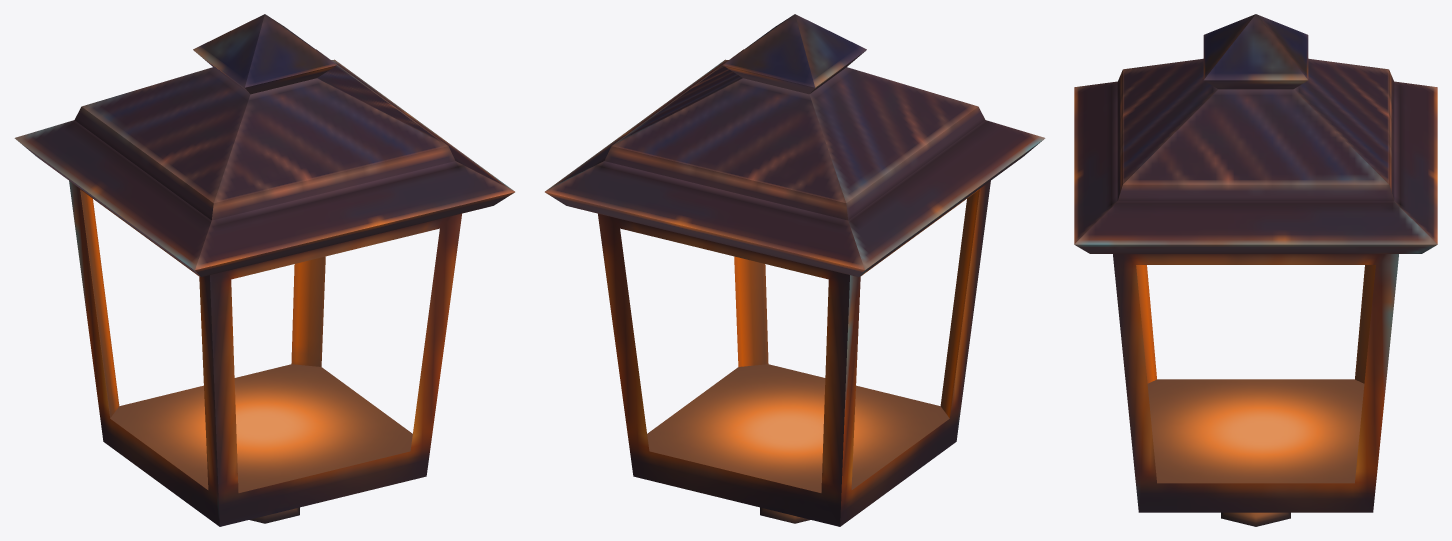
File: HuBian_NightLD_fbx.FBX
The picture shows the model from 3 angles, left to right: view 1: azimuth 30°, elevation 25°; view 2: azimuth 150°, elevation 25°; view 3: azimuth 270°, elevation 25°; orthographic projection.
Parts seen in each view (by area): view 1: Box048; view 2: Box048; view 3: Box048.
Boxes of the visible parts, box(x1,y1,x2,y2) form: Box048: box(14, 14, 514, 526); Box048: box(545, 14, 1045, 526); Box048: box(1074, 14, 1437, 526).
Bounding box in the file's own units: 0.4839 × 0.7105 × 0.4721.
